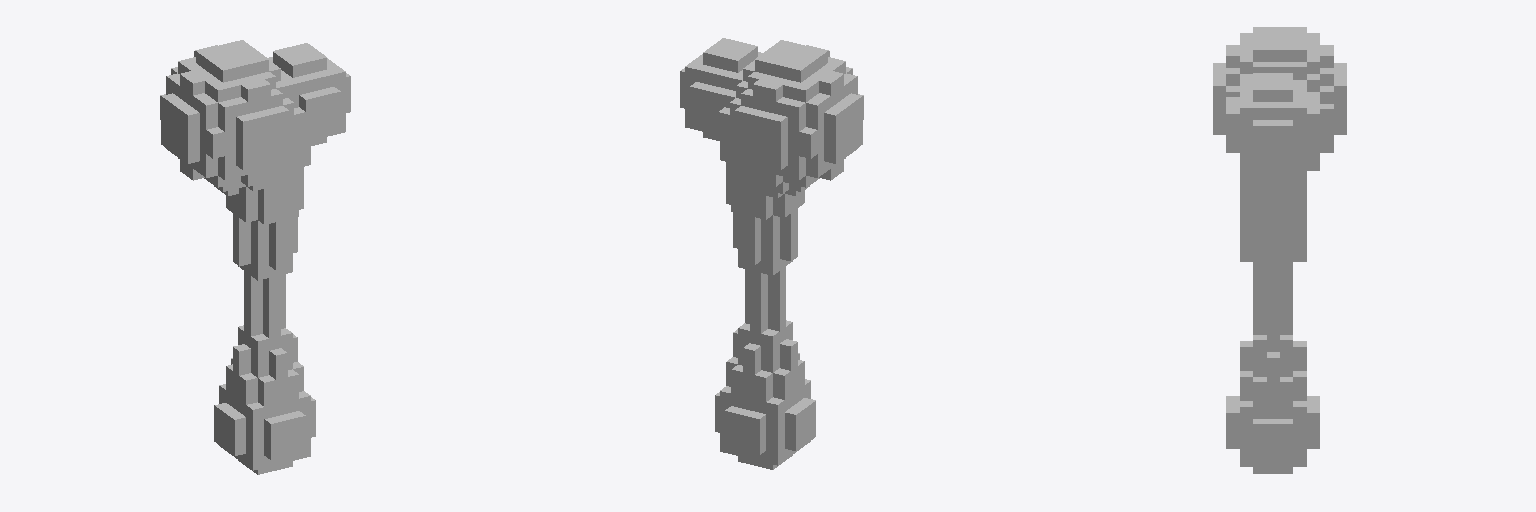
File: Bone Hammer.obj
The picture shows the model from 3 angles: view 1: azimuth 30°, elevation 25°; view 2: azimuth 150°, elevation 25°; view 3: azimuth 270°, elevation 25°; orthographic projection.
Visible parts, largest first — view 1: object 1; view 2: object 1; view 3: object 1.
Part boxes in pixels (bbox=[...]): object 1: bbox=[160, 40, 350, 474]; object 1: bbox=[680, 38, 863, 469]; object 1: bbox=[1213, 27, 1346, 473].
Size of the model in its own units: 1.4 by 3.4 by 1.